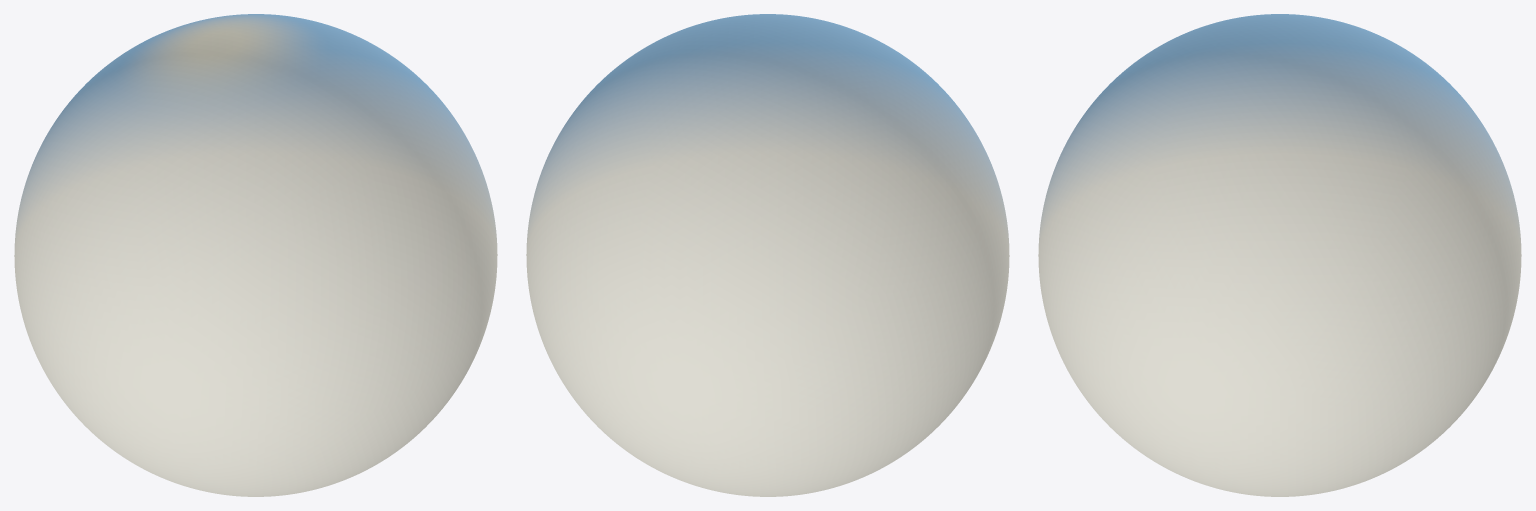
The model's file is sky_dome.glb.
3 renders of one model, left to right at view 1: azimuth 30°, elevation 25°; view 2: azimuth 150°, elevation 25°; view 3: azimuth 270°, elevation 25°, orthographic.
Visible parts, largest first — view 1: world; view 2: world; view 3: world.
Part boxes in pixels (bbox=[...]): world: bbox=[14, 14, 497, 496]; world: bbox=[526, 14, 1009, 496]; world: bbox=[1038, 14, 1521, 496].
Size of the model in its own units: 900 by 900 by 900.
